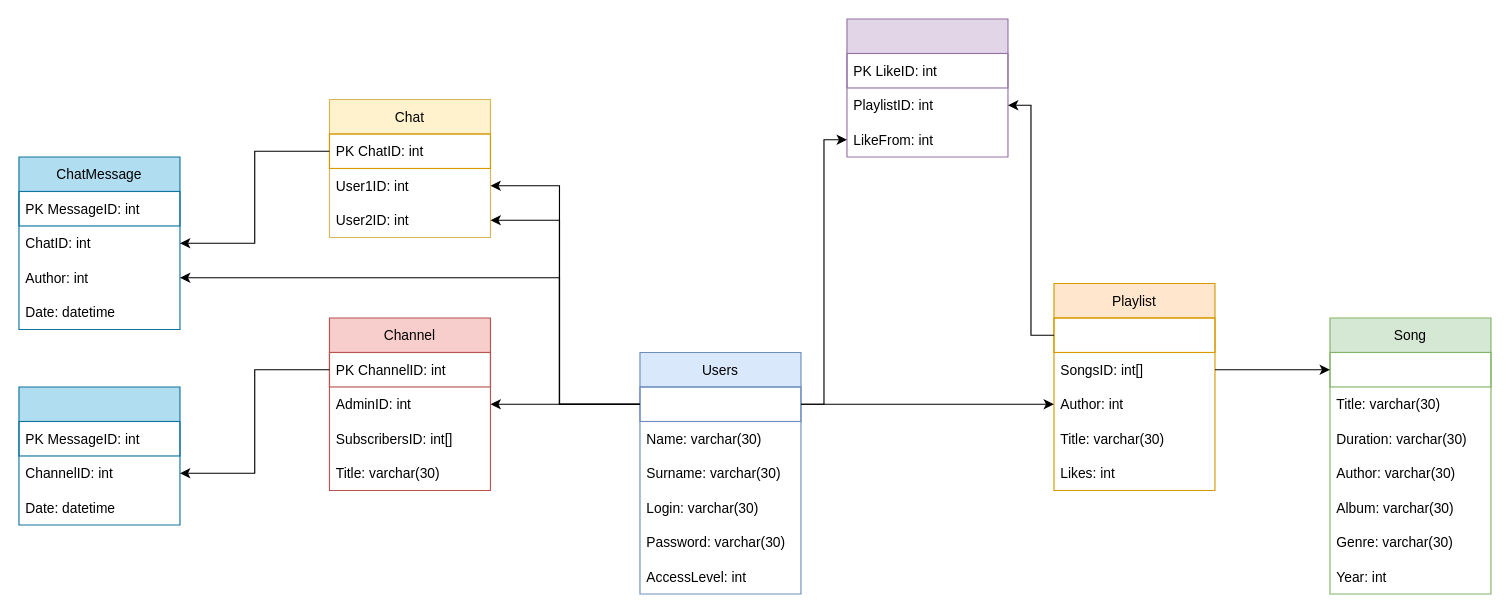
The diagram is 1510 pixels wide and 613 high, and some of its shapes have lost their labels. Each missing label, with the box of its shape:
ChannelMessage: (18, 386, 180, 525)
Likes: (846, 18, 1008, 157)
PK PlaylistID: int: (1053, 317, 1215, 352)
PK SongID: int: (1329, 351, 1491, 387)
PK UserID: int: (639, 386, 801, 421)
